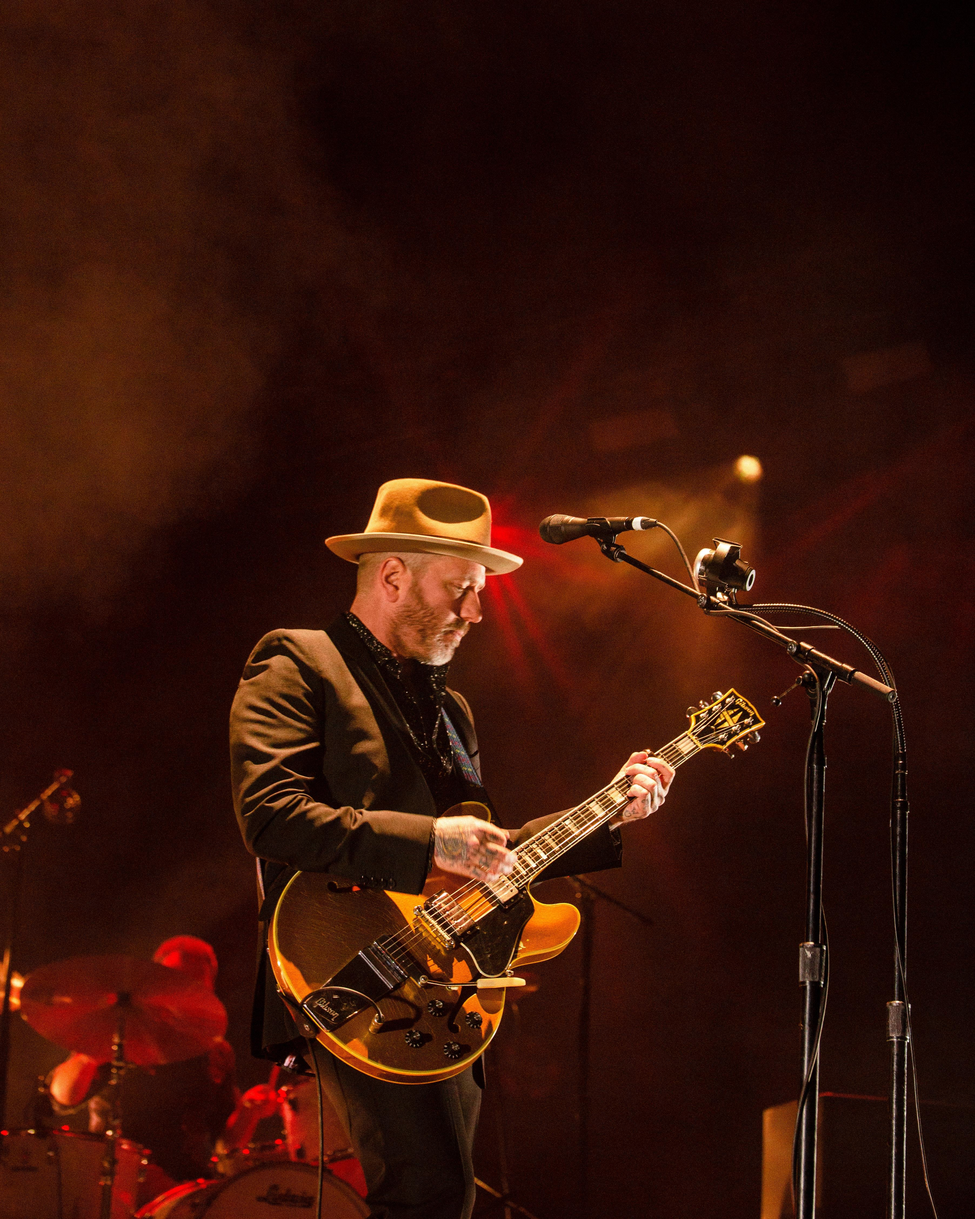acousticguitar: (266, 684, 760, 1084)
